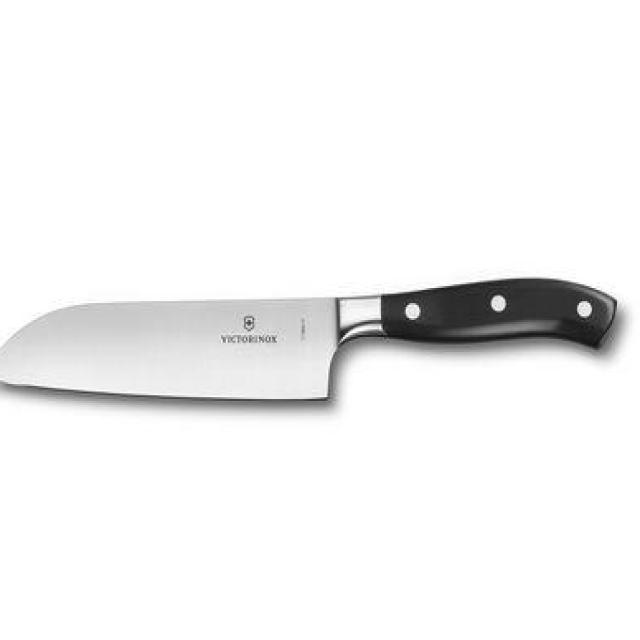Weapon: (0, 279, 615, 397)
